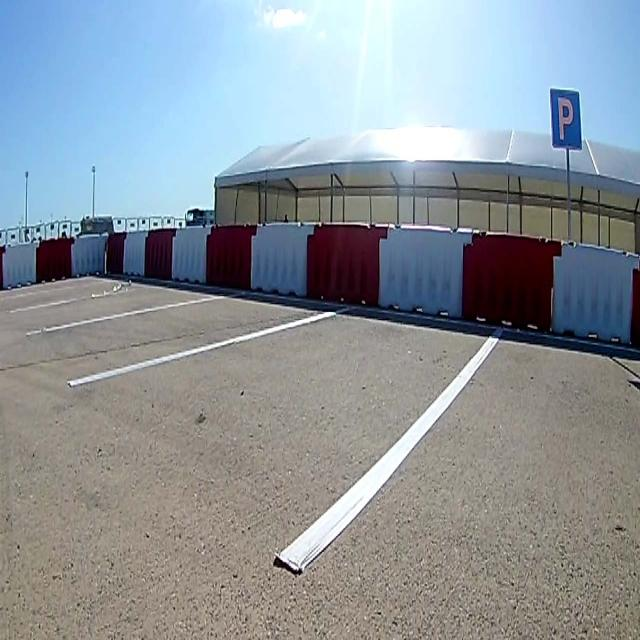park: (549, 87, 583, 151)
